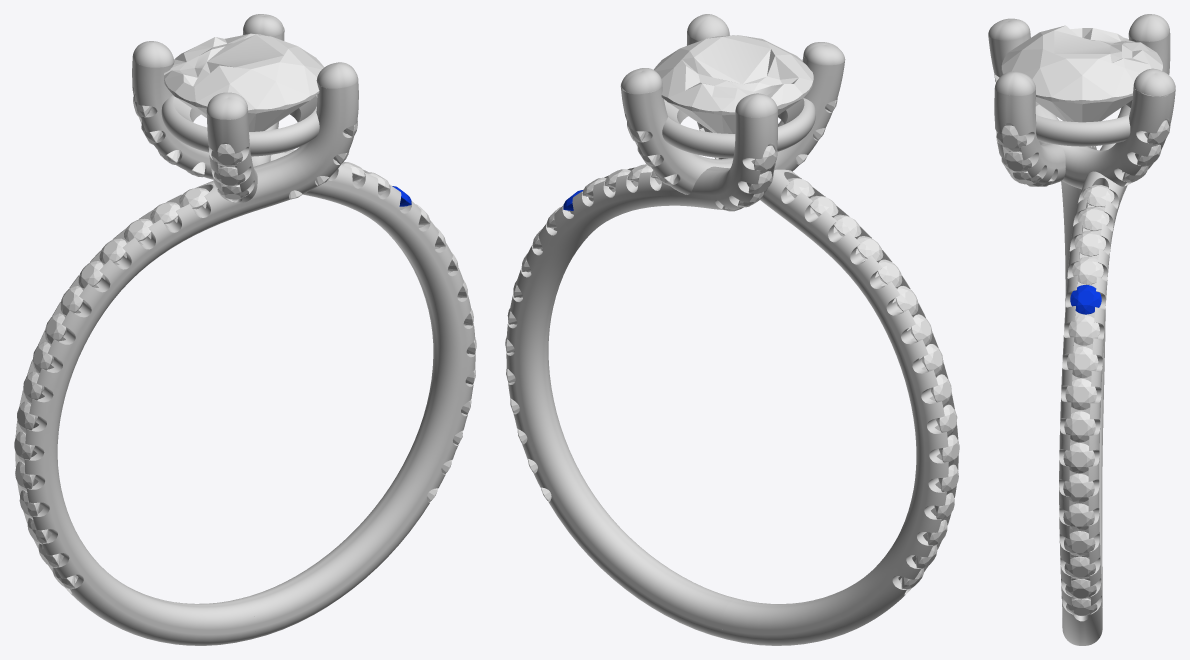
Rendered from DragonAttenuation.glb.
The picture shows the model from 3 angles, left to right: view 1: azimuth 30°, elevation 25°; view 2: azimuth 150°, elevation 25°; view 3: azimuth 270°, elevation 25°; orthographic projection.
Visible parts, largest first — view 1: Metal 01, Diamond_Round, Head Rail; view 2: Metal 01, Diamond_Round, Head Rail; view 3: Metal 01, Diamond_Round, Head Rail, Diamond_Round_24, Diamond_Round_25, Diamond_Round_23, Diamond_Round_26, Diamond_Round_22, Diamond_Round_27, Diamond_Round_21, Diamond_Round_28, Diamond_Round_20 (+12 smaller).
Part boxes in pixels (x1=…): Metal 01: x1=15, y1=14, x2=475, y2=645; Diamond_Round: x1=164, y1=33, x2=324, y2=131; Head Rail: x1=161, y1=95, x2=319, y2=156; Metal 01: x1=506, y1=14, x2=958, y2=645; Diamond_Round: x1=653, y1=35, x2=813, y2=133; Head Rail: x1=662, y1=98, x2=815, y2=158; Metal 01: x1=988, y1=14, x2=1175, y2=645; Diamond_Round: x1=1001, y1=25, x2=1162, y2=122; Head Rail: x1=1035, y1=100, x2=1132, y2=146; Diamond_Round_24: x1=1065, y1=378, x2=1096, y2=409; Diamond_Round_25: x1=1067, y1=346, x2=1098, y2=377; Diamond_Round_23: x1=1064, y1=411, x2=1095, y2=442; Diamond_Round_26: x1=1068, y1=315, x2=1099, y2=345; Diamond_Round_22: x1=1063, y1=443, x2=1094, y2=473; Diamond_Round_27: x1=1070, y1=285, x2=1101, y2=314; Diamond_Round_21: x1=1063, y1=473, x2=1094, y2=502; Diamond_Round_28: x1=1072, y1=256, x2=1103, y2=284; Diamond_Round_20: x1=1063, y1=503, x2=1094, y2=530.
Size of the model in its own units: 0.3899 by 0.4842 by 0.142.
